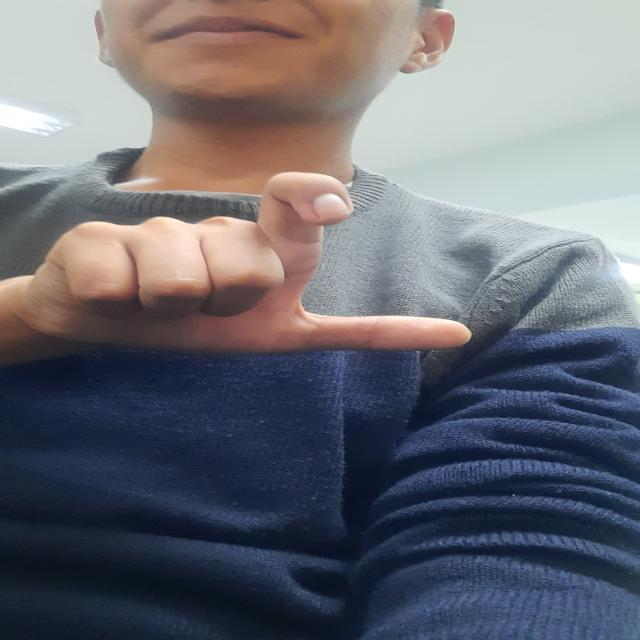G: (0, 163, 505, 359)
